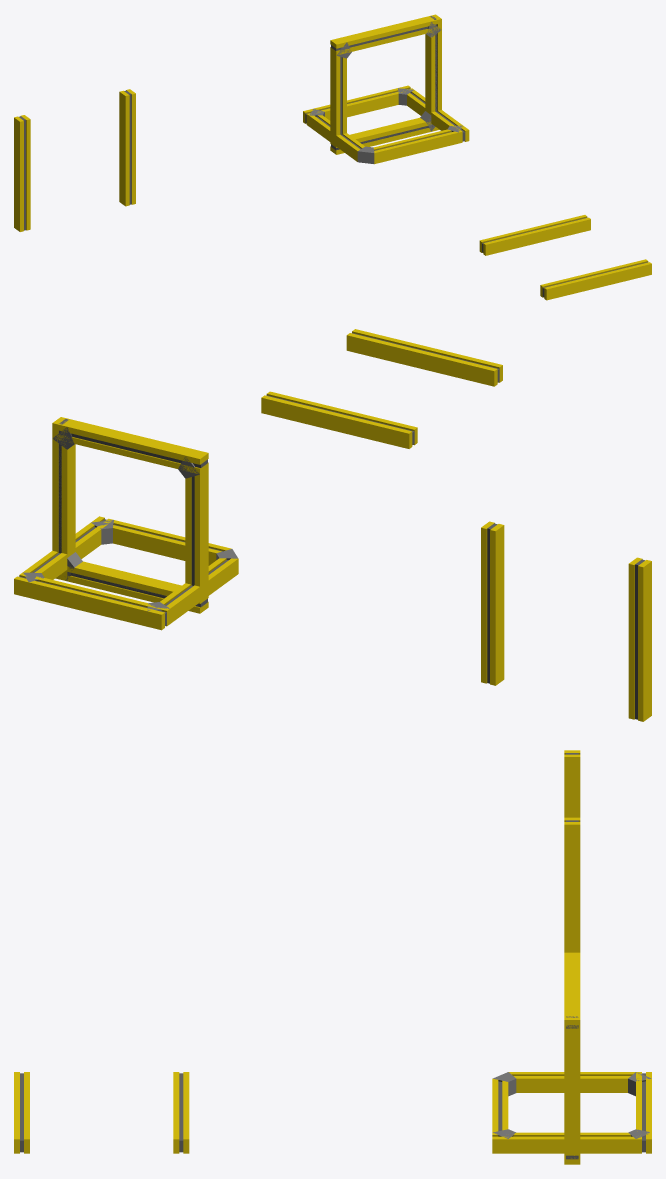
File: rings.glb
The picture shows the model from 3 angles, top to bottom: view 1: azimuth 30°, elevation 25°; view 2: azimuth 150°, elevation 25°; view 3: azimuth 270°, elevation 25°; orthographic projection. The views are drawn at different scales.
Visible parts, largest first — view 1: VerticalCheckpoint1x1, HorizontalCheckpoint1x1, VerticalCheckpointWide3, VerticalCheckpointWide4, HorizontalCheckpointWide3, HorizontalCheckpointWide4, VerticalCheckpointCorner1, HorizontalCheckpointCorner, VerticalCheckpointCorner2, VerticalCheckpointEdge2, VerticalCheckpointEdge1; view 2: VerticalCheckpoint1x1, HorizontalCheckpoint1x1, VerticalCheckpointWide3, VerticalCheckpointWide4, HorizontalCheckpointWide3, HorizontalCheckpointWide4, HorizontalCheckpointCorner, VerticalCheckpointCorner1, HorizontalCheckpointEdge, VerticalCheckpointCorner2, VerticalCheckpointEdge1, VerticalCheckpointEdge2; view 3: HorizontalCheckpoint1x1, VerticalCheckpoint1x1, VerticalCheckpointWide3, HorizontalCheckpointCorner, HorizontalCheckpointWide3, HorizontalCheckpointWide4, VerticalCheckpointWide4, VerticalCheckpointCorner2, VerticalCheckpointEdge2, VerticalCheckpointCorner1.
Part boxes in pixels (bbox=[...]): VerticalCheckpoint1x1: bbox=[330, 17, 441, 146]; HorizontalCheckpoint1x1: bbox=[309, 88, 462, 164]; VerticalCheckpointWide3: bbox=[119, 17, 441, 206]; VerticalCheckpointWide4: bbox=[14, 115, 30, 231]; HorizontalCheckpointWide3: bbox=[479, 215, 590, 255]; HorizontalCheckpointWide4: bbox=[540, 259, 651, 300]; VerticalCheckpointCorner1: bbox=[330, 14, 441, 154]; HorizontalCheckpointCorner: bbox=[303, 89, 469, 143]; VerticalCheckpointCorner2: bbox=[330, 17, 441, 107]; VerticalCheckpointEdge2: bbox=[330, 15, 441, 55]; VerticalCheckpointEdge1: bbox=[330, 118, 438, 154]; VerticalCheckpoint1x1: bbox=[52, 420, 208, 601]; HorizontalCheckpoint1x1: bbox=[23, 520, 238, 626]; VerticalCheckpointWide3: bbox=[52, 419, 504, 685]; VerticalCheckpointWide4: bbox=[628, 557, 651, 721]; HorizontalCheckpointWide3: bbox=[261, 391, 417, 448]; HorizontalCheckpointWide4: bbox=[346, 329, 502, 386]; HorizontalCheckpointCorner: bbox=[24, 516, 170, 630]; VerticalCheckpointCorner1: bbox=[52, 417, 208, 613]; HorizontalCheckpointEdge: bbox=[14, 572, 170, 629]; VerticalCheckpointCorner2: bbox=[52, 421, 208, 580]; VerticalCheckpointEdge1: bbox=[55, 566, 208, 612]; VerticalCheckpointEdge2: bbox=[52, 418, 207, 473]; HorizontalCheckpoint1x1: bbox=[492, 1072, 651, 1153]; VerticalCheckpoint1x1: bbox=[564, 959, 580, 1149]; VerticalCheckpointWide3: bbox=[564, 817, 580, 1164]; HorizontalCheckpointCorner: bbox=[492, 1072, 651, 1153]; HorizontalCheckpointWide3: bbox=[173, 1072, 189, 1153]; HorizontalCheckpointWide4: bbox=[14, 1072, 29, 1153]; VerticalCheckpointWide4: bbox=[564, 750, 580, 817]; VerticalCheckpointCorner2: bbox=[564, 952, 580, 1164]; VerticalCheckpointEdge2: bbox=[564, 952, 580, 1033]; VerticalCheckpointCorner1: bbox=[564, 1013, 580, 1149].
Size of the model in its own units: 80 by 20 by 80.
